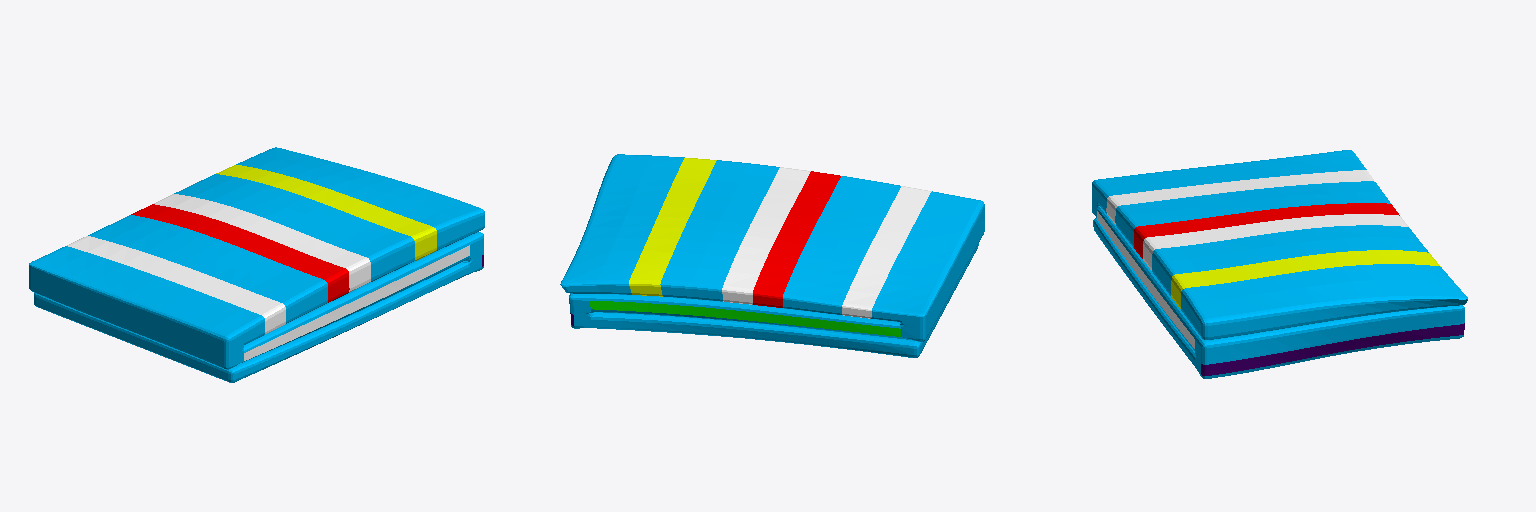
The model's file is Towel.obj.
3 views of the same model, side by side, from view 1: azimuth 30°, elevation 25°; view 2: azimuth 150°, elevation 25°; view 3: azimuth 270°, elevation 25° (orthographic).
Parts seen in each view (by area): view 1: Box002; view 2: Box002; view 3: Box002.
Part boxes in pixels (left/top/right/bottom): Box002: left=29, top=147, right=484, bottom=382; Box002: left=560, top=154, right=984, bottom=357; Box002: left=1092, top=150, right=1467, bottom=378.
Bounding box in the file's own units: 631874 × 101271 × 537312.